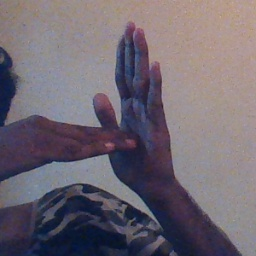Z: (39, 20, 174, 189)
